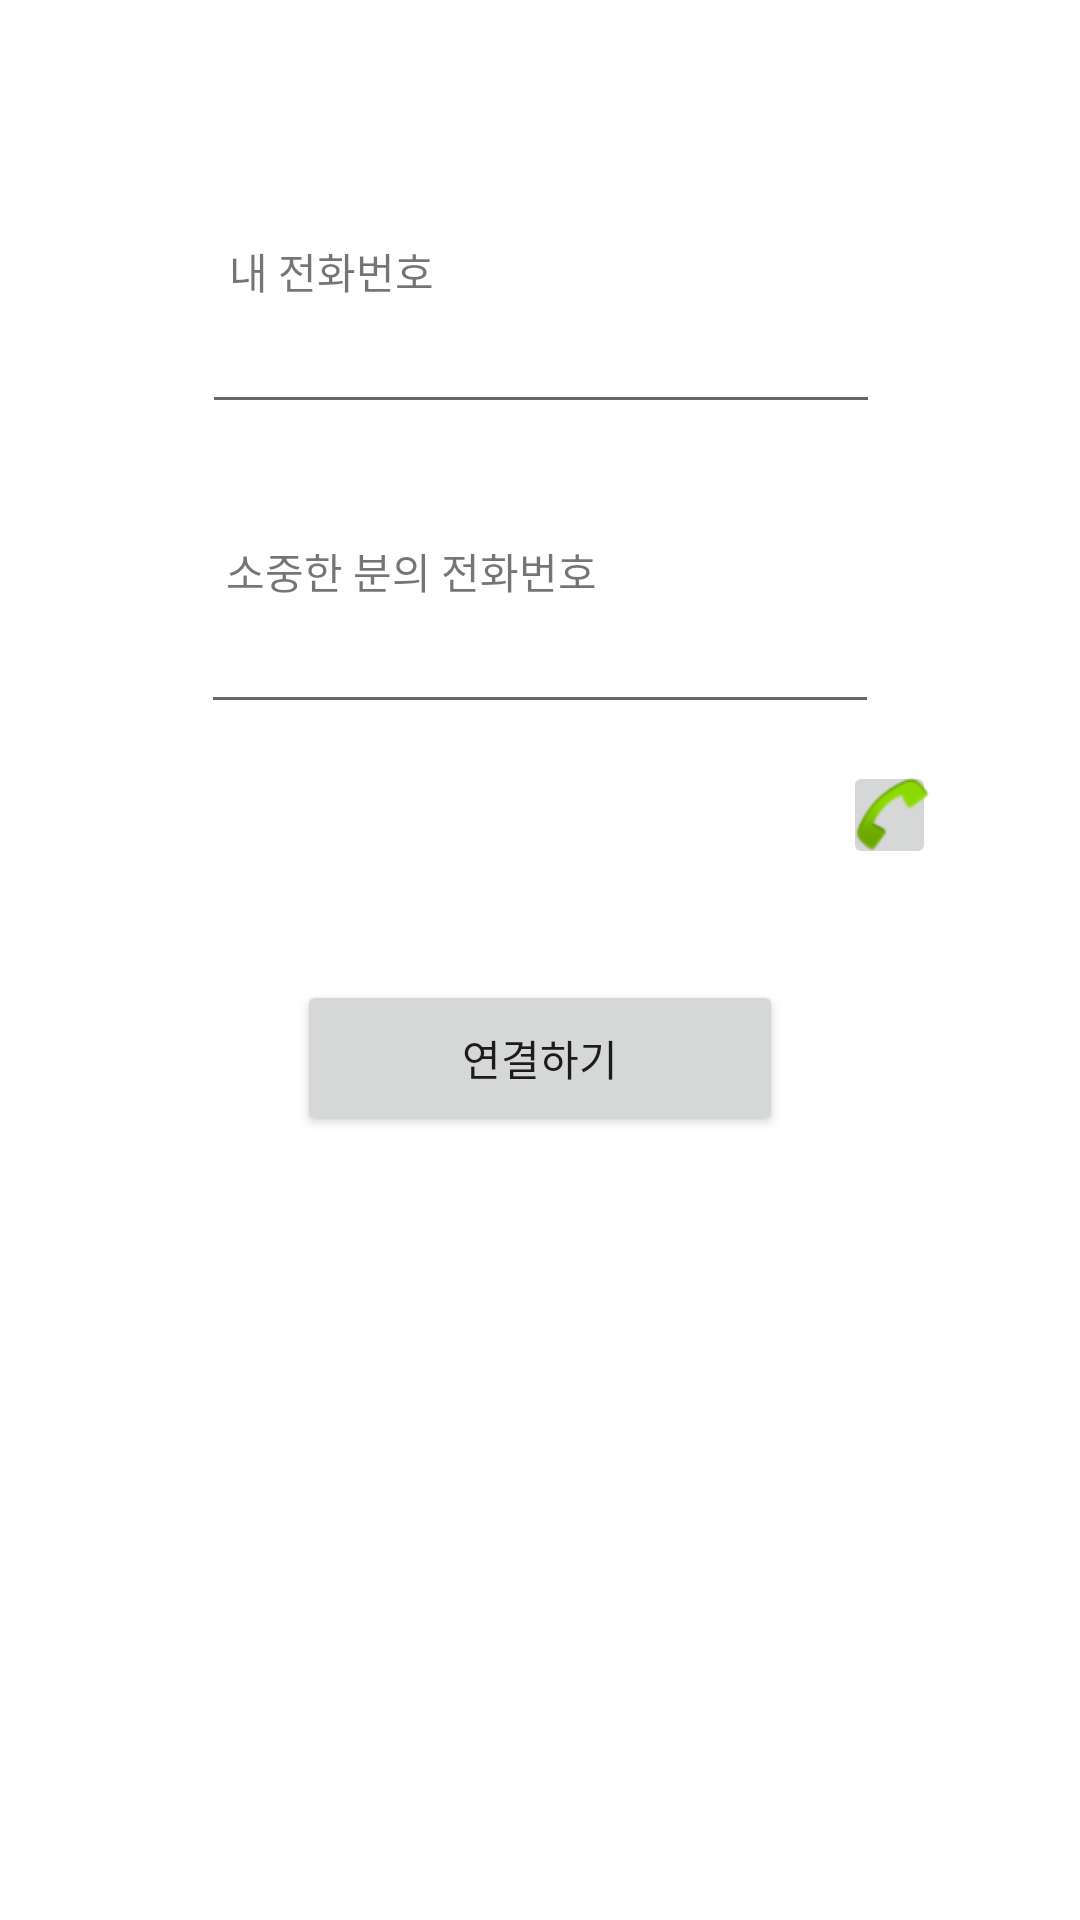

Named icons in this screenshot (1080px×1920px) and their bounding boxes, region(x1, y1, x2, y2):
sym action call: region(855, 778, 929, 851)
